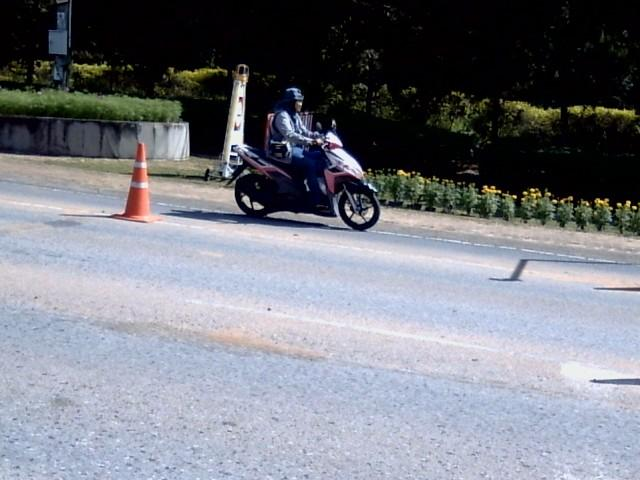motor: (228, 121, 380, 229)
no-helmet: (280, 86, 303, 111)
person: (270, 87, 327, 212)
